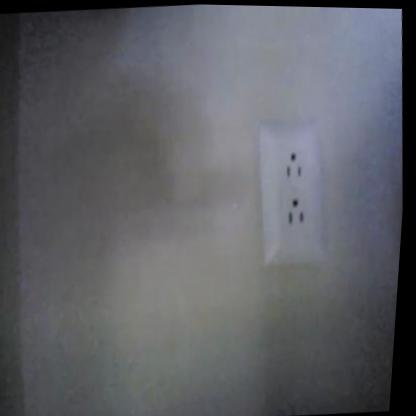OUTLET: (249, 116, 339, 268)
